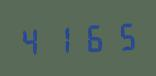five: (108, 18, 137, 52)
four: (18, 23, 47, 57)
one: (48, 21, 77, 55)
six: (78, 19, 107, 54)
